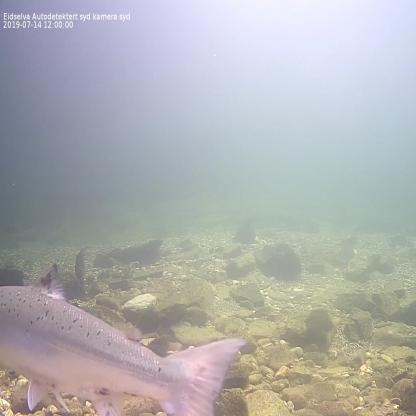salmon: (0, 261, 249, 415)
